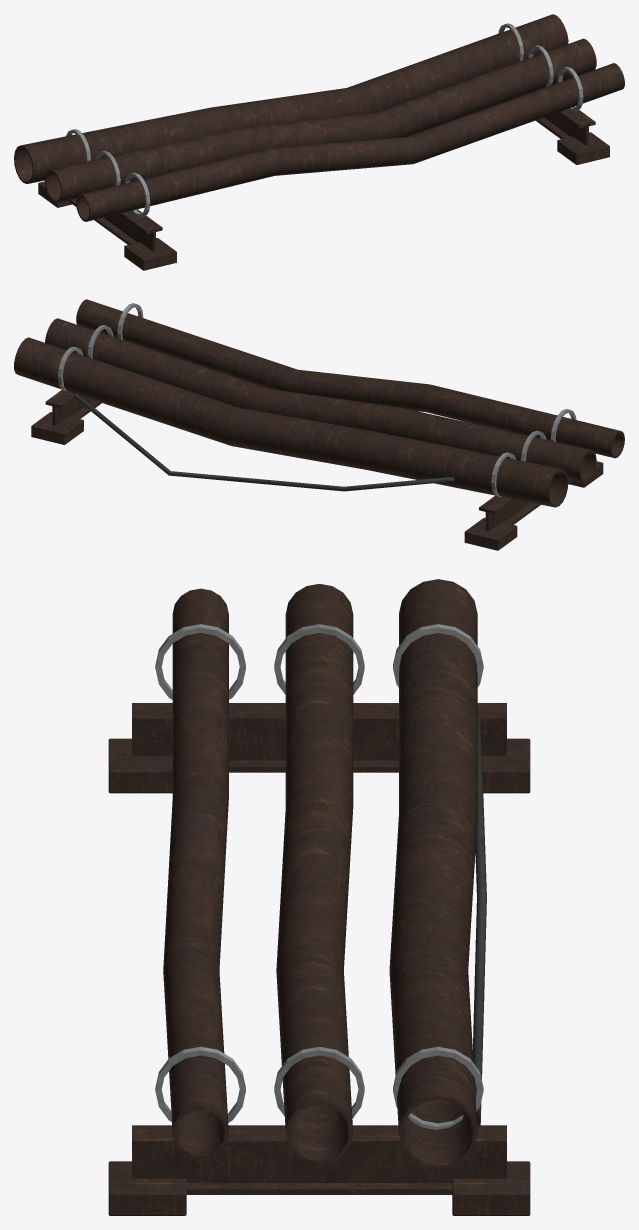
The model's file is lod0_NOT_APPROVED.glb.
3 renders of one model, top to bottom at view 1: azimuth 30°, elevation 25°; view 2: azimuth 150°, elevation 25°; view 3: azimuth 270°, elevation 25°, orthographic. The views are drawn at different scales.
Parts seen in each view (by area): view 1: f3_oxidized_iron_surface, f3_bare_worn_steel_surface; view 2: f3_oxidized_iron_surface, f3_aged_rubber_surface, f3_bare_worn_steel_surface; view 3: f3_oxidized_iron_surface, f3_bare_worn_steel_surface, f3_aged_rubber_surface.
Boxes of the visible parts, <box> form: f3_oxidized_iron_surface: <box>14,14,624,270</box>; f3_bare_worn_steel_surface: <box>66,23,583,217</box>; f3_oxidized_iron_surface: <box>14,299,624,550</box>; f3_aged_rubber_surface: <box>73,393,454,491</box>; f3_bare_worn_steel_surface: <box>58,303,576,497</box>; f3_oxidized_iron_surface: <box>108,579,530,1215</box>; f3_bare_worn_steel_surface: <box>155,624,483,1129</box>; f3_aged_rubber_surface: <box>473,717,486,1125</box>.
Bounding box in the file's own units: 3.97 × 0.6609 × 1.35.
Materials: 3 (3 with a texture image).
